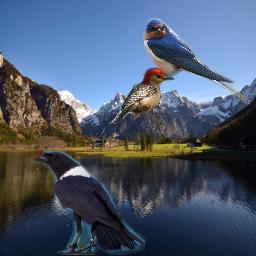Crow: (30, 150, 145, 255)
Swallow: (142, 18, 250, 104)
Woodpecker: (108, 67, 176, 126)
